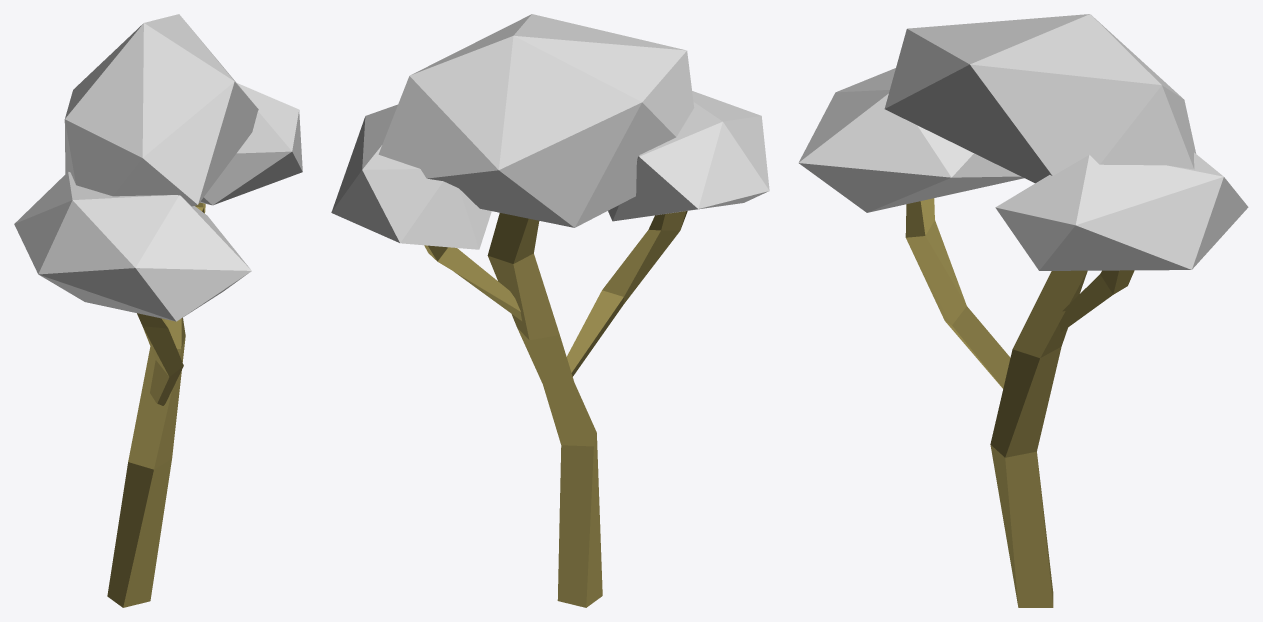
The model's file is Tree_Winter_2.fbx.
3 renders of one model, left to right at view 1: azimuth 30°, elevation 25°; view 2: azimuth 150°, elevation 25°; view 3: azimuth 270°, elevation 25°, orthographic. The views are drawn at different scales.
Visible parts, largest first — view 1: Leaves.002, Leaves.001, Trunk, Leaves, Trunk.002; view 2: Leaves.002, Trunk, Leaves.001, Leaves, Trunk.002, Trunk.001; view 3: Leaves.002, Leaves, Leaves.001, Trunk, Trunk.002, Trunk.001.
Boxes of the visible parts, x1,y1,x2,y2 form: Leaves.002: (64, 14, 258, 206); Leaves.001: (14, 172, 251, 321); Trunk: (107, 317, 185, 607); Leaves: (200, 83, 302, 205); Trunk.002: (137, 313, 183, 405); Leaves.002: (378, 14, 694, 227); Trunk: (487, 213, 602, 607); Leaves.001: (608, 91, 769, 221); Leaves: (331, 104, 491, 249); Trunk.002: (566, 211, 687, 376); Trunk.001: (424, 245, 521, 320); Leaves.002: (884, 14, 1196, 183); Leaves: (995, 152, 1248, 270); Leaves.001: (798, 68, 1024, 212); Trunk: (990, 270, 1087, 607); Trunk.002: (905, 198, 1010, 388); Trunk.001: (1059, 270, 1134, 332).
Size of the model in its own units: 222 by 358 by 240.
